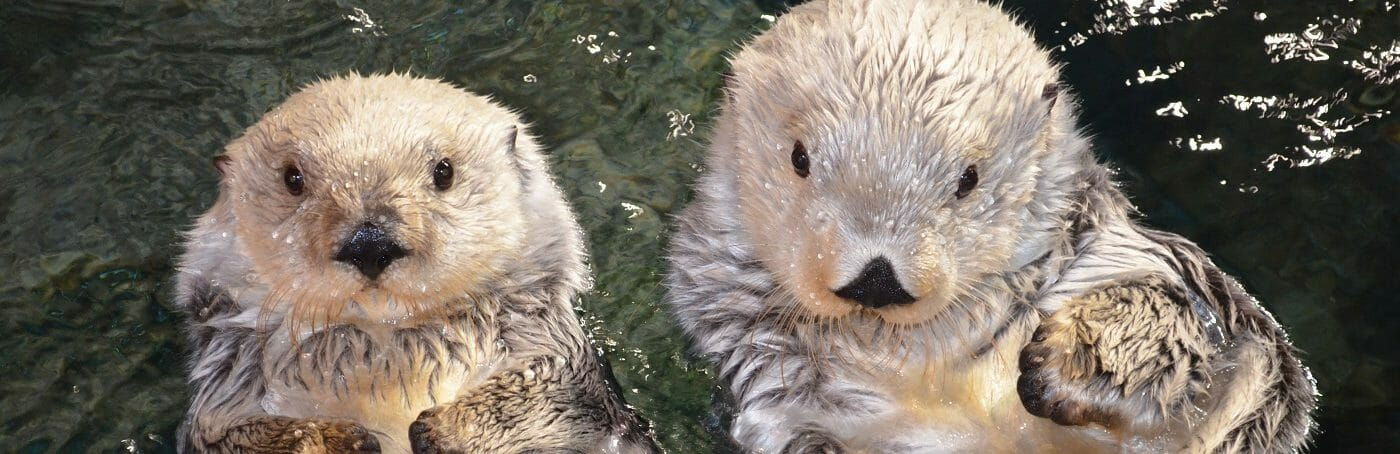otter: (680, 3, 1330, 425), (172, 25, 661, 454)
